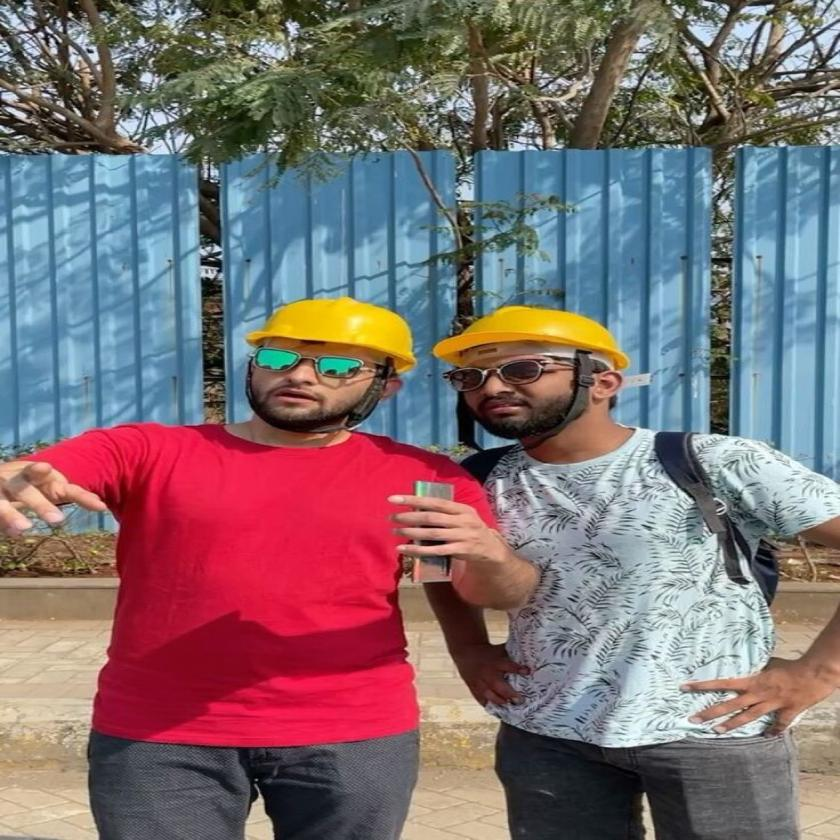Con_casco: (219, 292, 434, 461), (424, 302, 642, 463)
